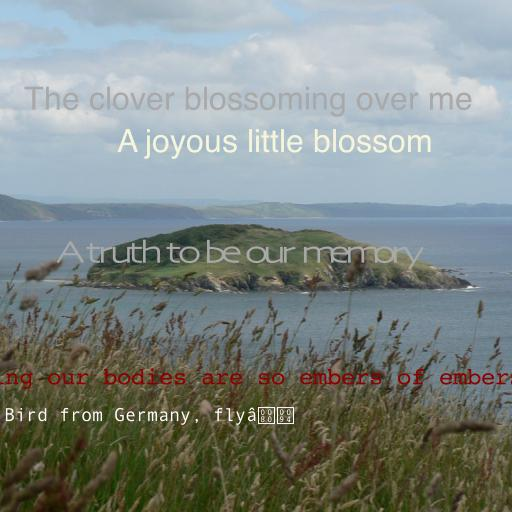Andale Mono: (3, 407, 295, 425)
Courier: (0, 368, 512, 389)
Impact: (23, 86, 473, 117)
SignPainter: (117, 129, 433, 159)
Skia: (56, 239, 420, 270)
